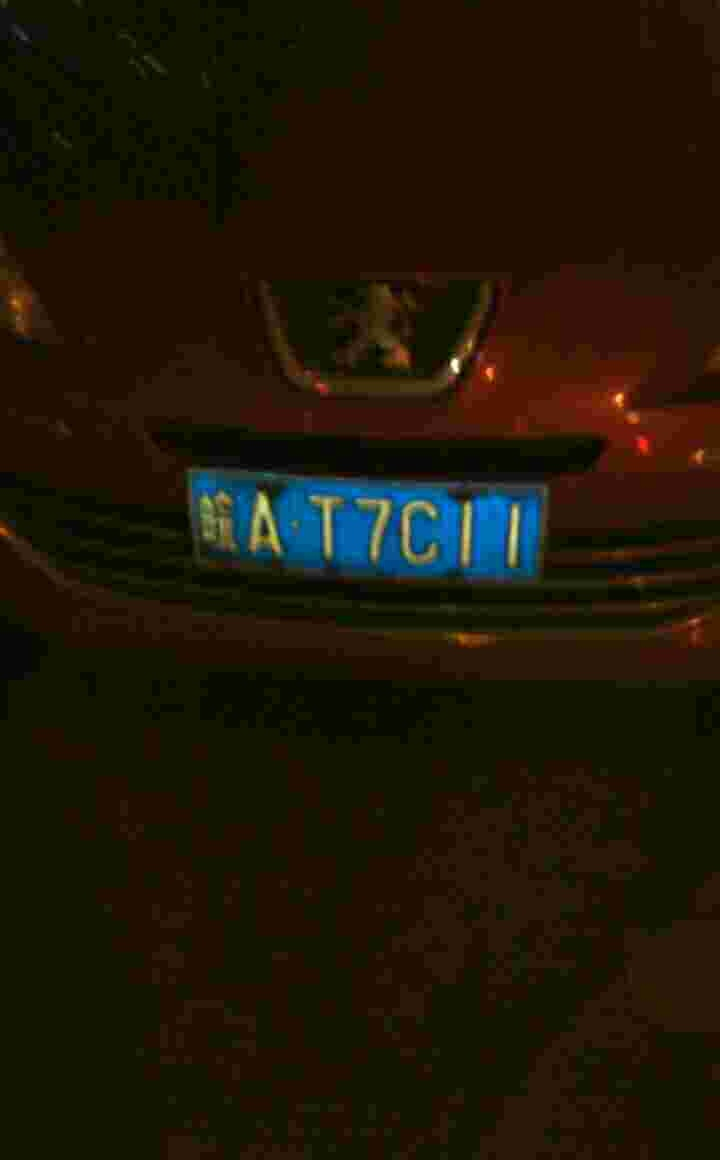license_plate: (182, 464, 538, 587)
